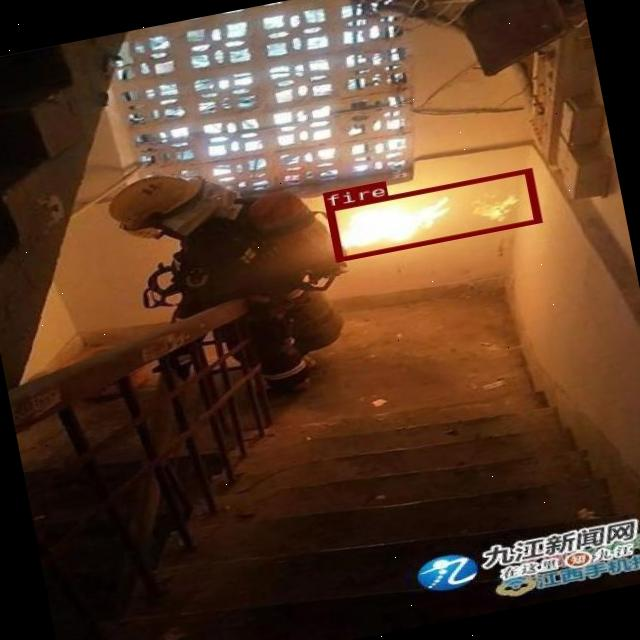fire: (324, 168, 540, 262)
